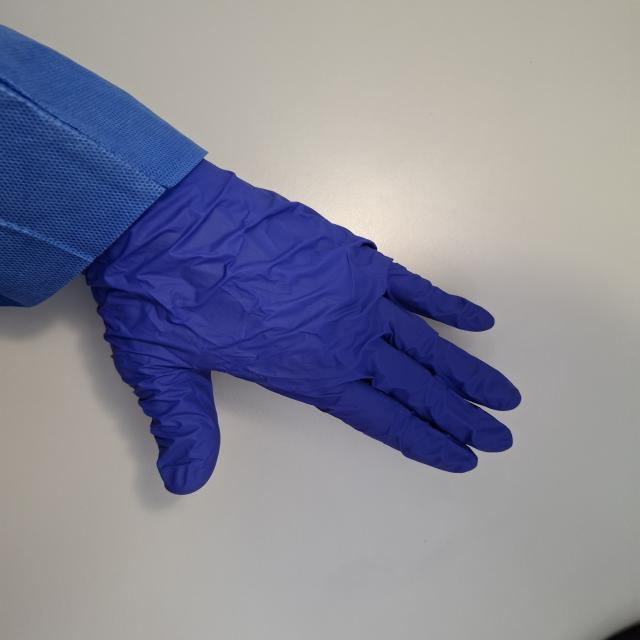glove_on: (70, 155, 532, 499)
